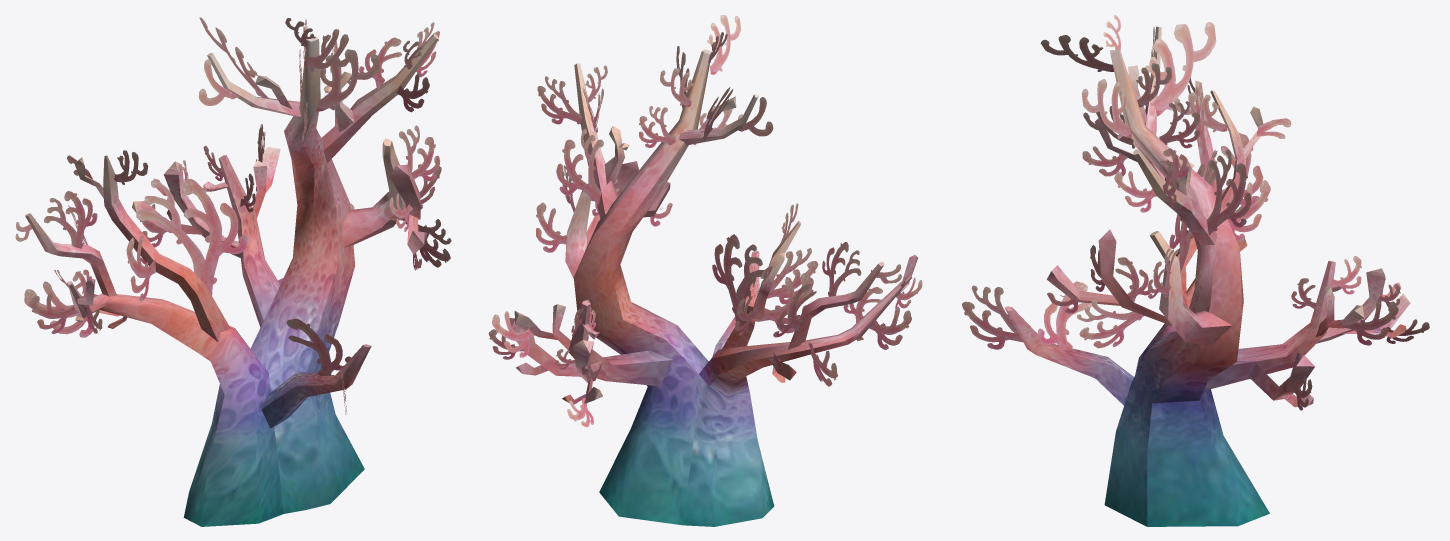
Rendered from map_113_zhibei_1.fbx.
The picture shows the model from 3 angles, left to right: view 1: azimuth 30°, elevation 25°; view 2: azimuth 150°, elevation 25°; view 3: azimuth 270°, elevation 25°; orthographic projection. The views are drawn at different scales.
Visible parts, largest first — view 1: map_113_zhibei_1; view 2: map_113_zhibei_1; view 3: map_113_zhibei_1.
Boxes of the visible parts, box(x1,y1,x2,y2) form: map_113_zhibei_1: box(15, 17, 451, 526); map_113_zhibei_1: box(488, 15, 922, 526); map_113_zhibei_1: box(962, 15, 1429, 526).
Size of the model in its own units: 2.69 by 3.08 by 2.74.
